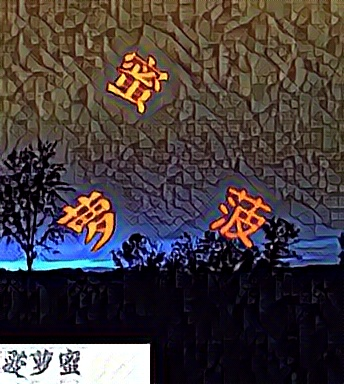B2A4: (204, 186, 266, 250)
C2DC: (57, 189, 119, 253)
C3DB: (104, 51, 166, 115)
